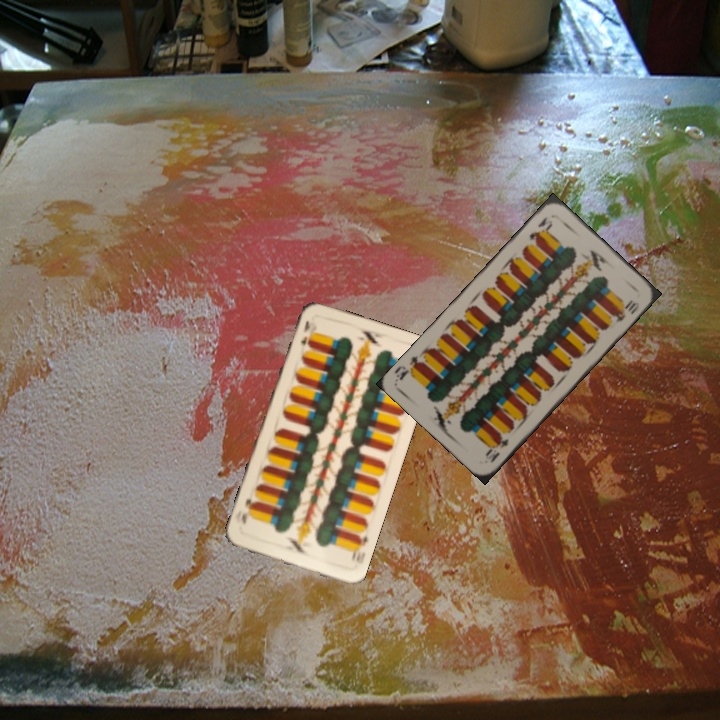E10: (481, 432, 511, 466), (525, 213, 555, 244), (347, 531, 370, 567), (297, 316, 312, 349)
